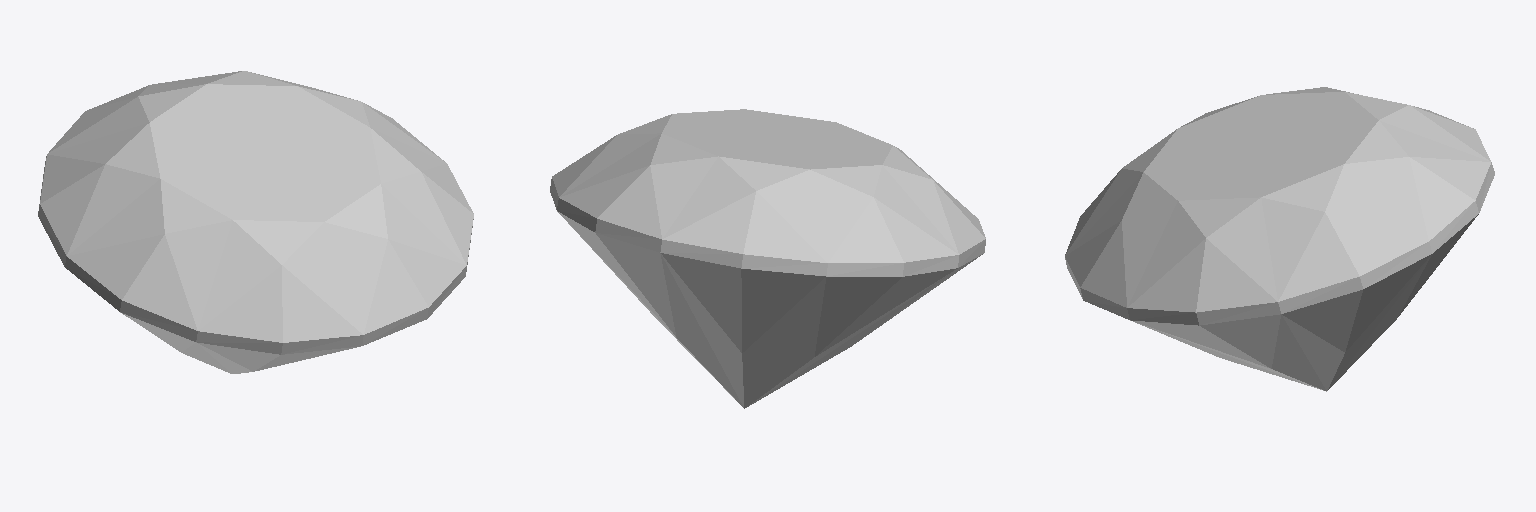
Rendered from pink.obj.
3 renders of one model, left to right at view 1: azimuth 30°, elevation 25°; view 2: azimuth 150°, elevation 25°; view 3: azimuth 270°, elevation 25°, orthographic.
Parts seen in each view (by area): view 1: Gemstone_01.005; view 2: Gemstone_01.005; view 3: Gemstone_01.005.
Boxes of the visible parts, box(x1,y1,x2,y2) form: Gemstone_01.005: box(38, 71, 473, 373); Gemstone_01.005: box(550, 109, 985, 408); Gemstone_01.005: box(1065, 87, 1494, 391).
Bounding box in the file's own units: 0.9373 × 0.6371 × 0.9162.